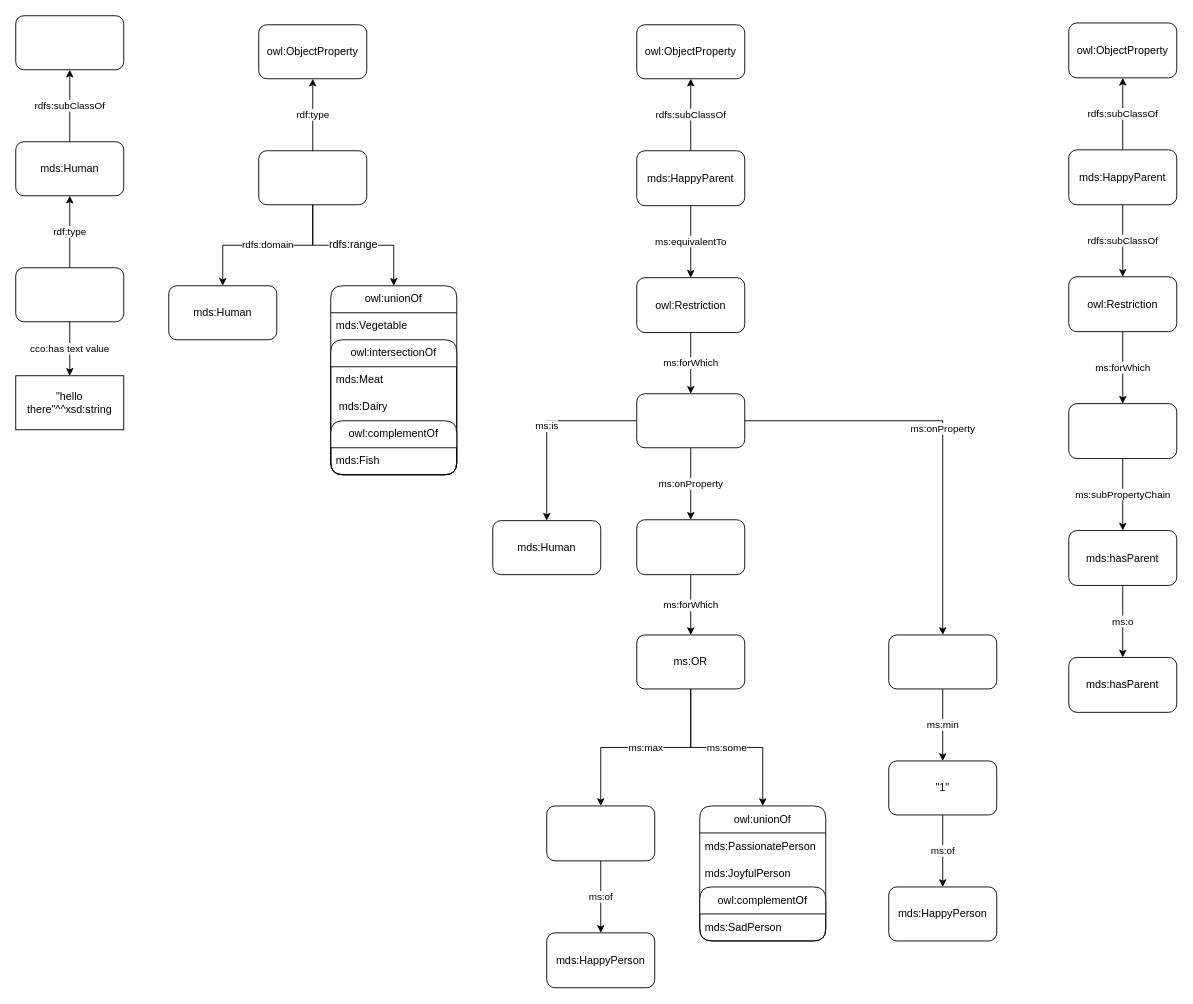
Some shapes in this 1193 by 1004 pixel diagram are drawn without their labels. The centre of each missing label's shape, as x and y in pixels:
"1"^^xsd:decimal: point (600, 833)
cco:Person: point (69, 42)
mds:Eats (eats,ate, consume, imbibe): point (312, 177)
mds:hasChild: point (690, 547)
mds:hasWife: point (942, 661)
Me: point (69, 294)
ms:AND: point (690, 420)
ms:Single: point (1122, 431)
